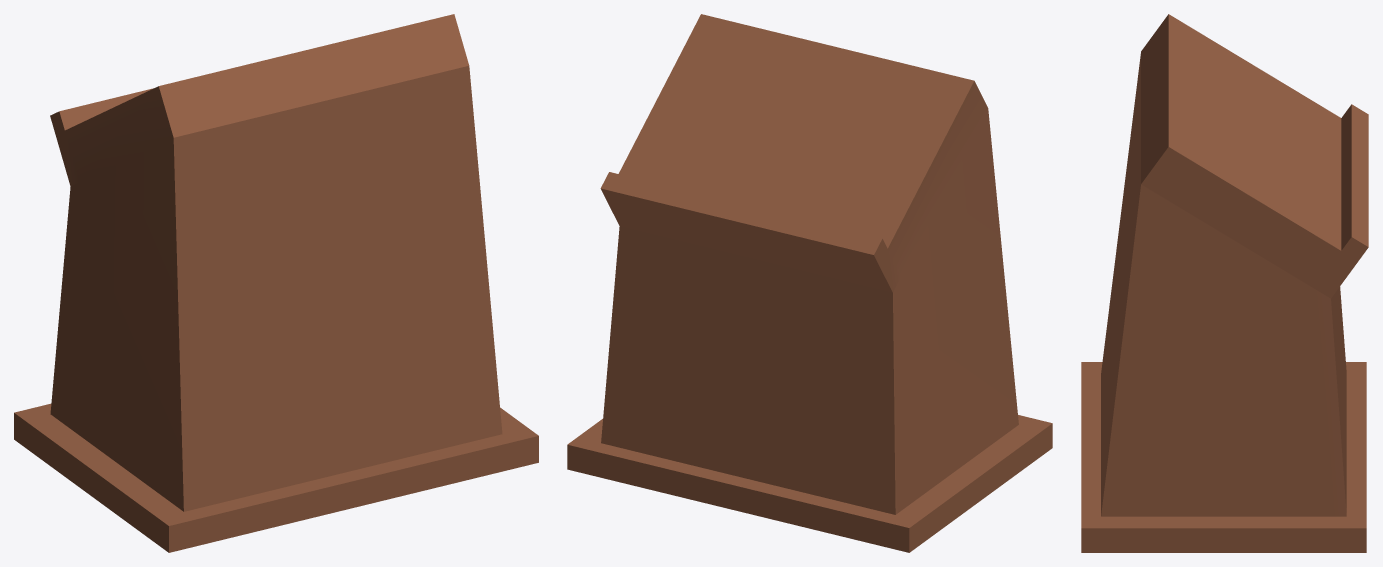
File: CHURCHPULPIT_V1.fbx
The picture shows the model from 3 angles, left to right: view 1: azimuth 30°, elevation 25°; view 2: azimuth 150°, elevation 25°; view 3: azimuth 270°, elevation 25°; orthographic projection. The views are drawn at different scales.
Parts seen in each view (by area): view 1: Pulpit; view 2: Pulpit; view 3: Pulpit.
Boxes of the visible parts, x1,y1,x2,y2 form: Pulpit: (14,14,538,552); Pulpit: (567,14,1052,552); Pulpit: (1081,14,1368,552).
Bounding box in the file's own units: 373 × 407 × 272.
